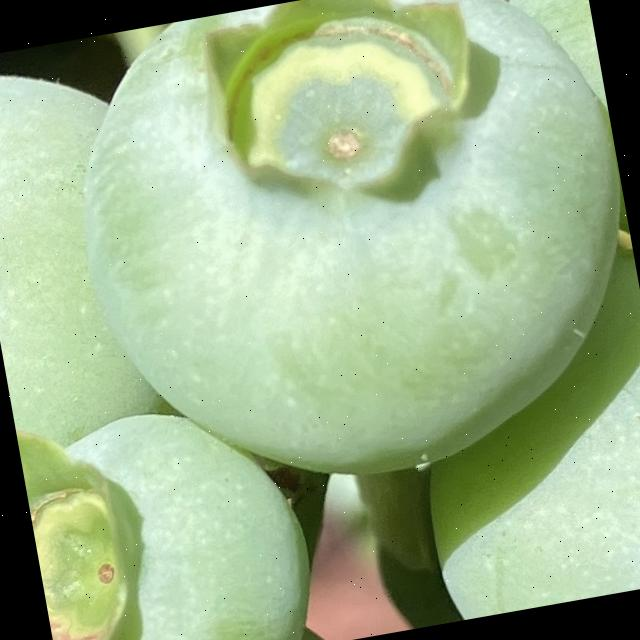Blueberries: (46, 0, 640, 517), (384, 243, 640, 623), (14, 381, 332, 640)
